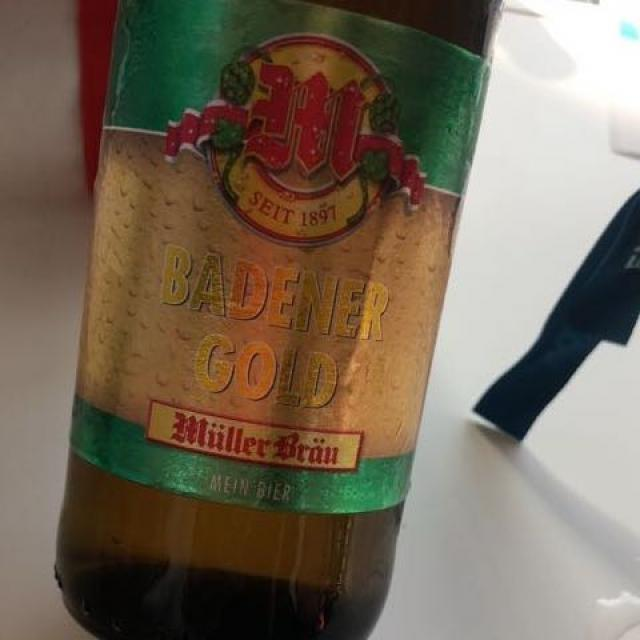beer: (41, 18, 495, 638)
